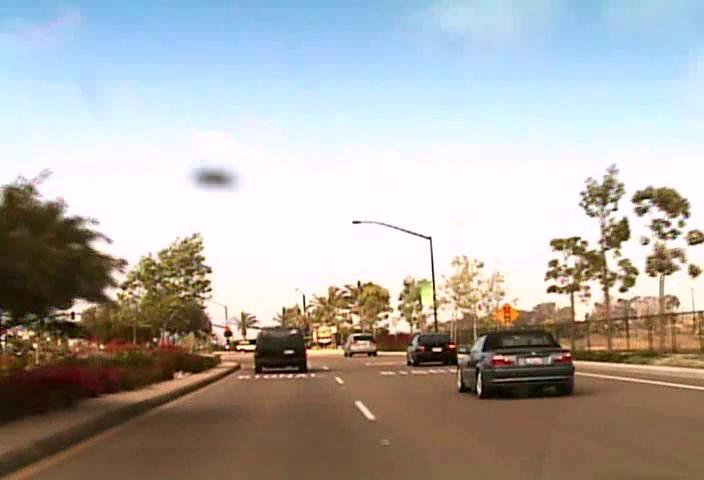signalAhead: (492, 302, 519, 328)
